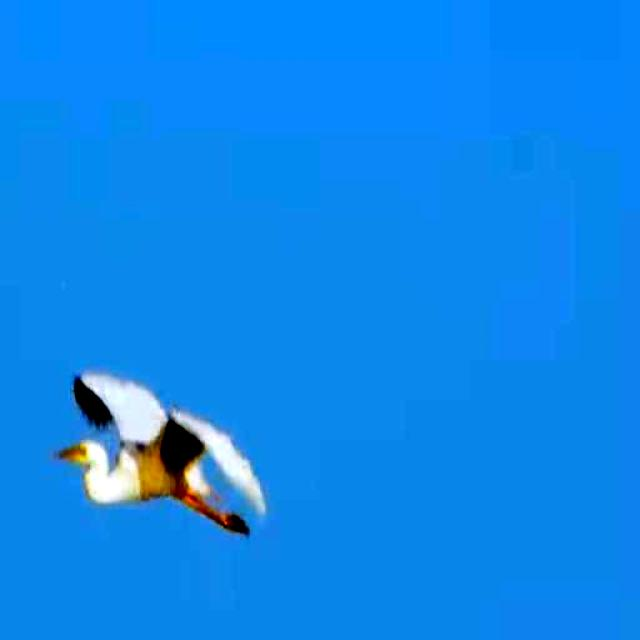airplane: (52, 359, 270, 558)
